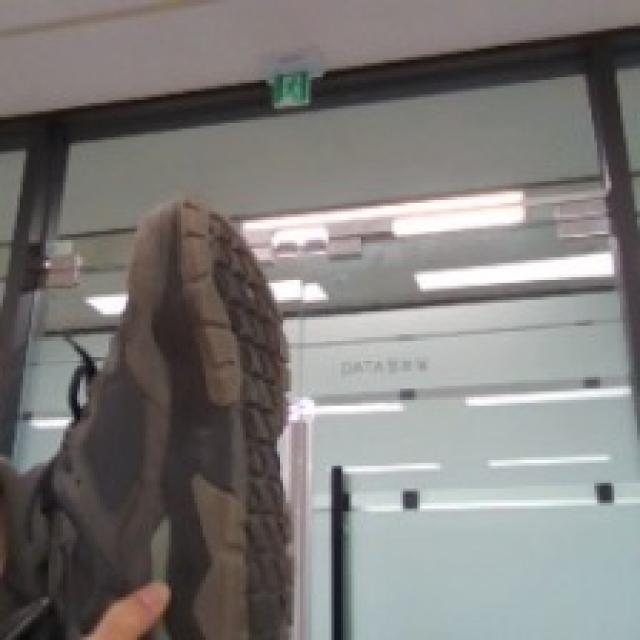shoe: (25, 200, 296, 640)
